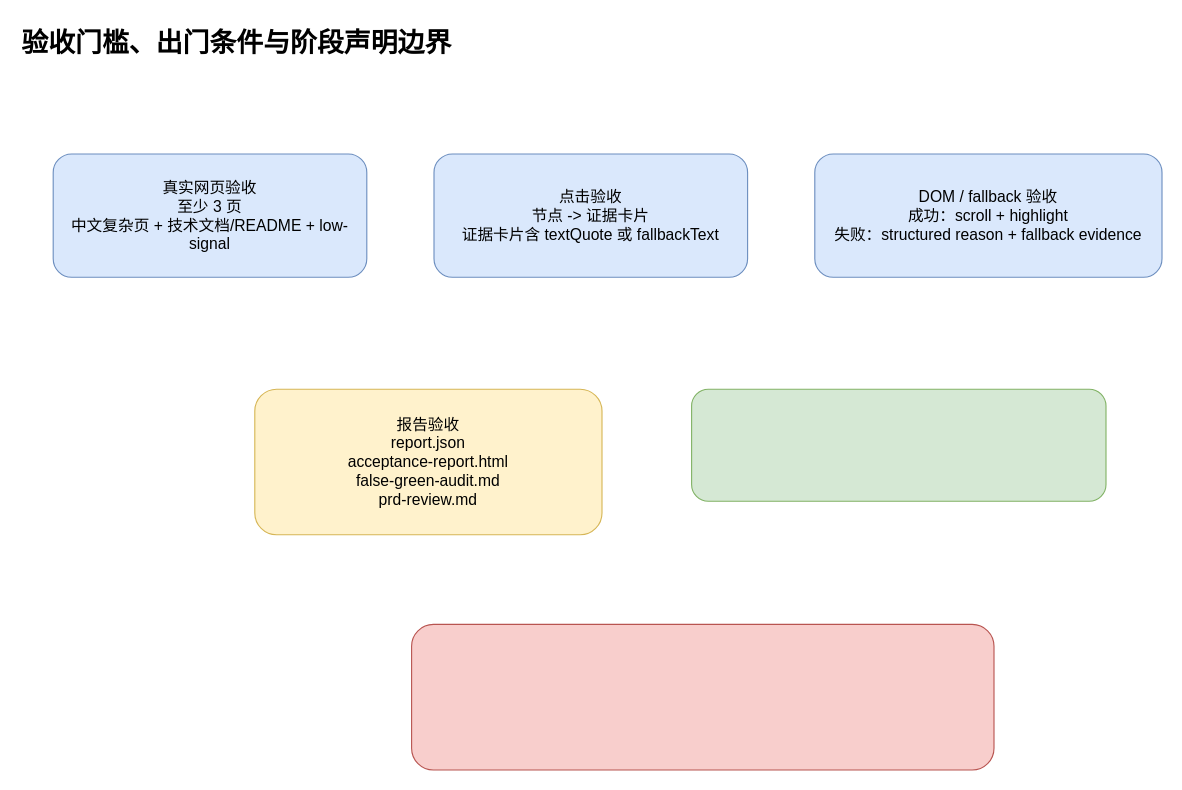
Image size: 1182x790. Some labels were removed from this diagram. The centre of each missing label's shape, as x and y in pixels:
不得声明 Monica 级精准反跳 完整 V1 / V1.2 PDF/OCR/视频/直播反跳 RAG / Memory / Web Research / PPT: point 702,696
可声明 Mindmap source fallback and basic jumpback MVP complete: point 898,444
